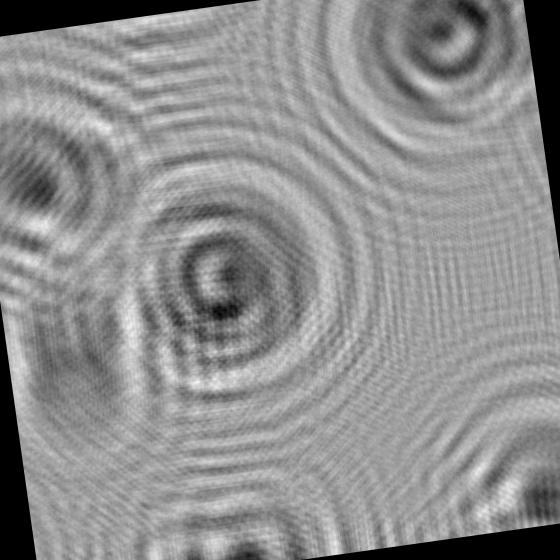F: (73, 435, 381, 560)
G: (41, 110, 392, 449), (291, 0, 548, 212)
I: (0, 217, 206, 516)
J: (0, 24, 211, 331), (395, 363, 560, 543)
